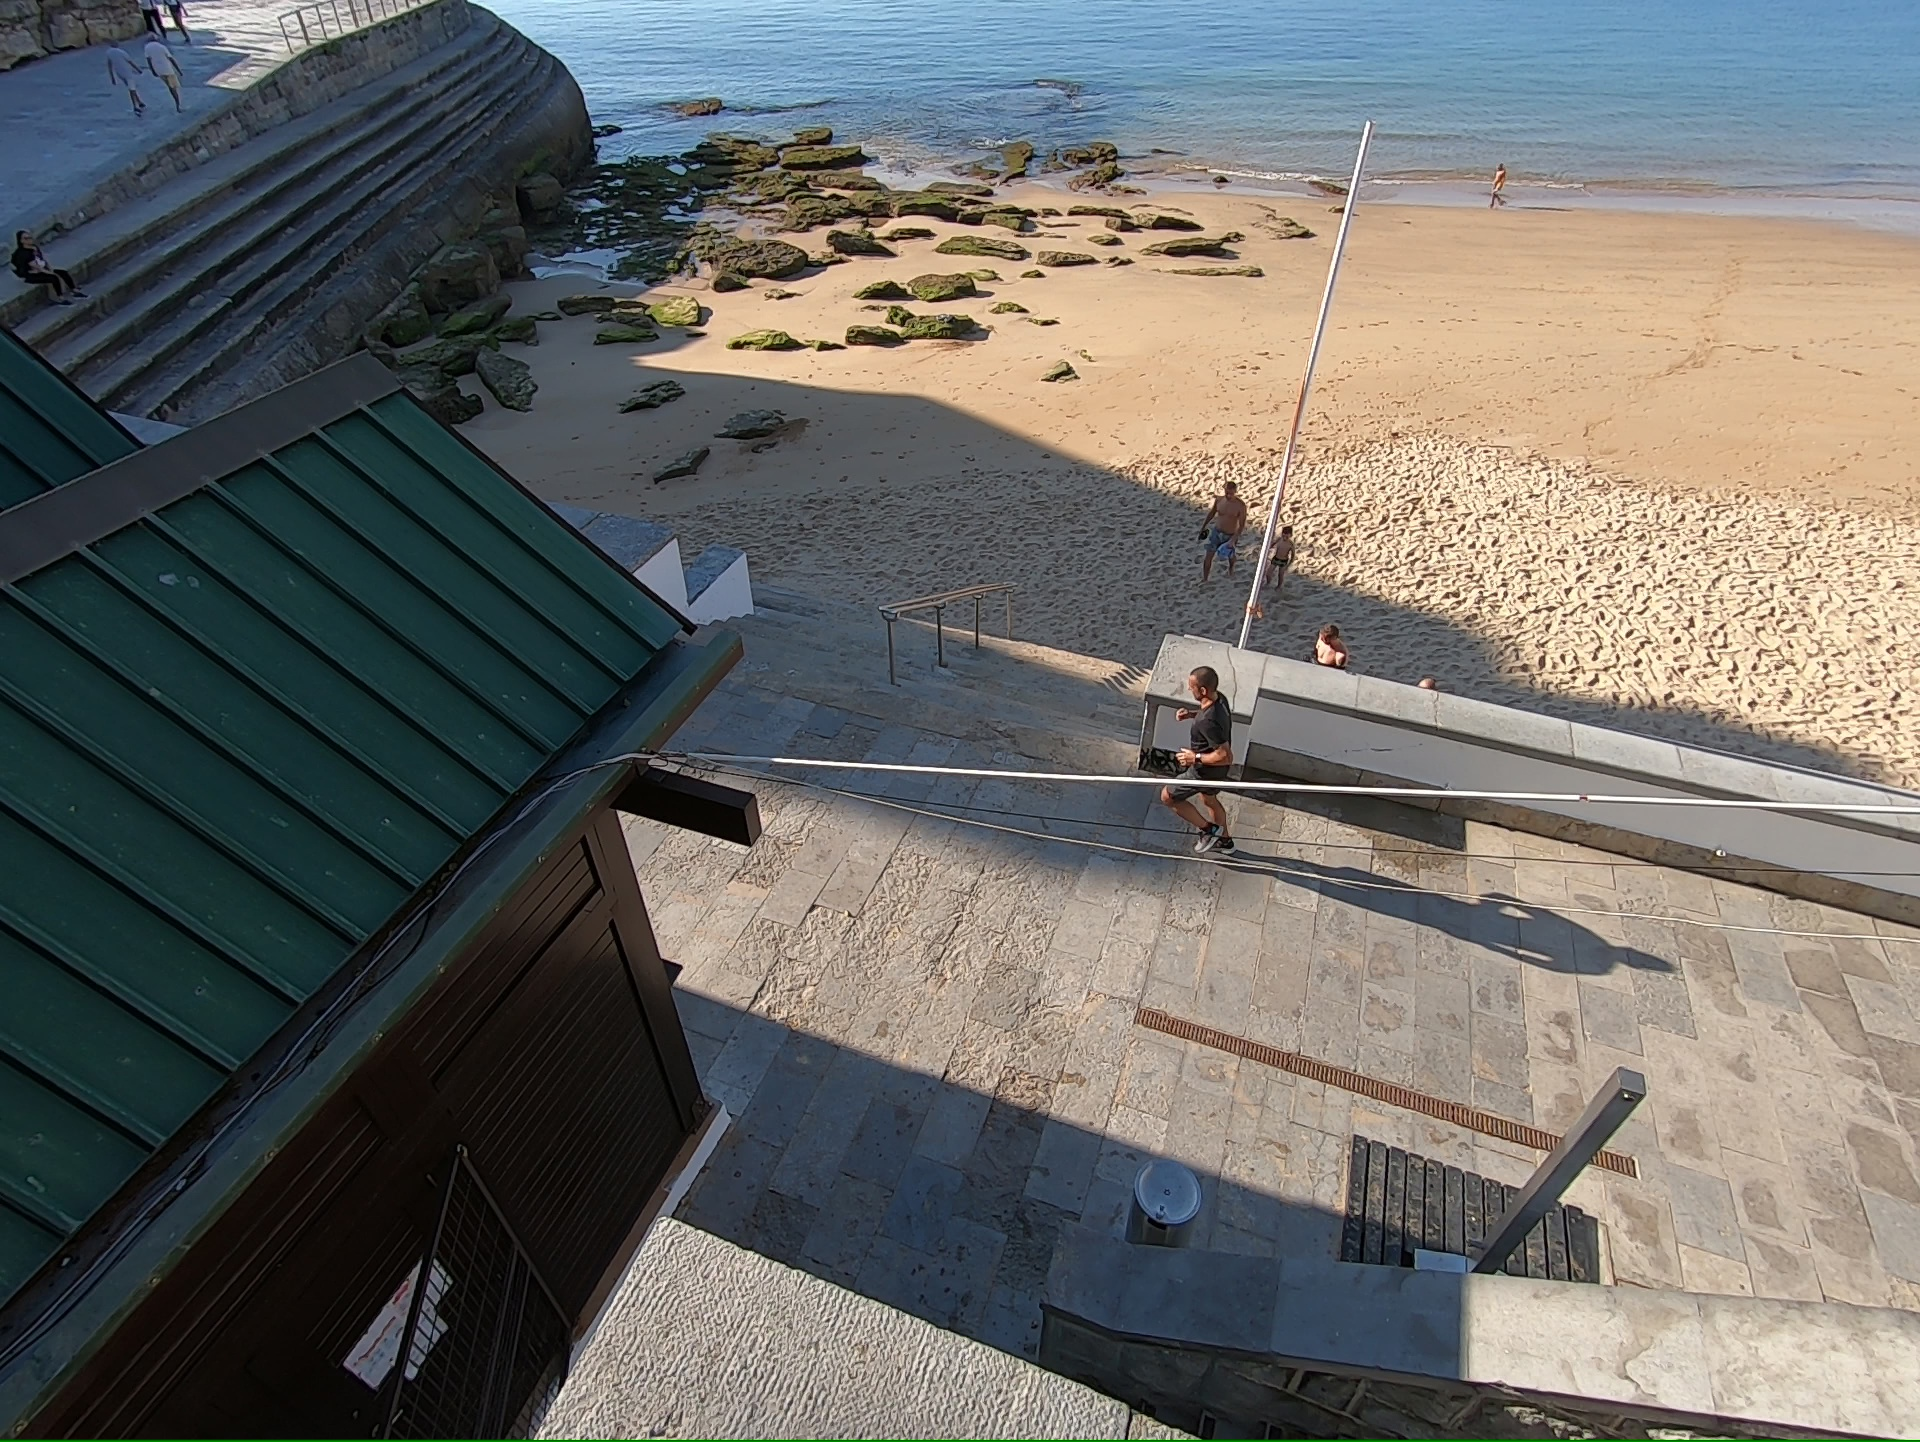person: (1159, 665, 1237, 859), (1198, 478, 1248, 582), (1262, 525, 1294, 588), (1306, 625, 1350, 670), (1488, 159, 1507, 212)
